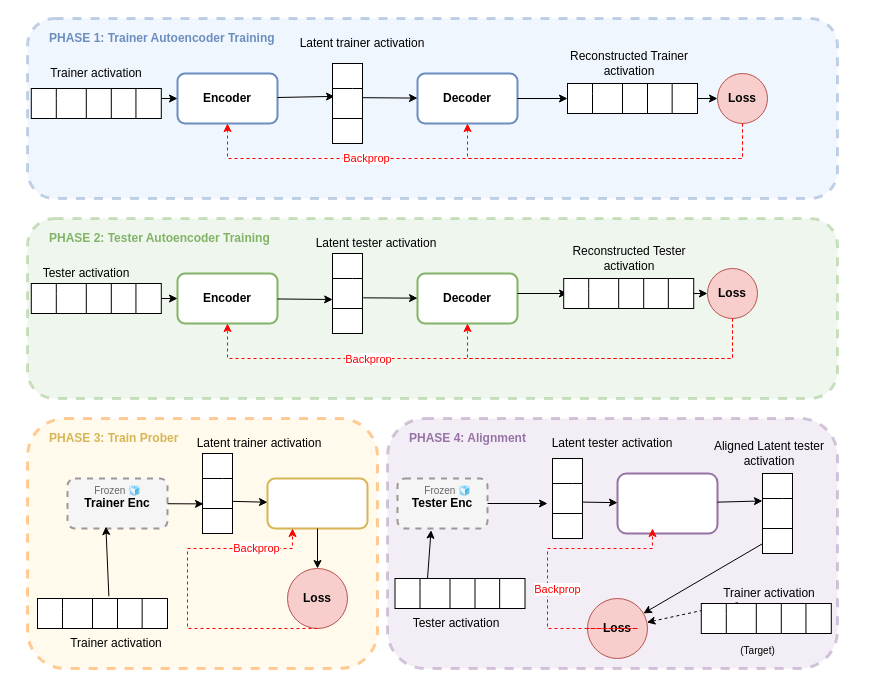
This 878x687 diagram has some shape labels left out. Each missing label, with the centre of its shape:
"Alignment Network" goes at [667,503].
"MLP Prober" goes at [317,503].
